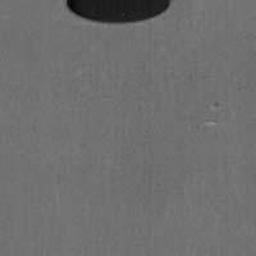Punching: (64, 0, 170, 23)
